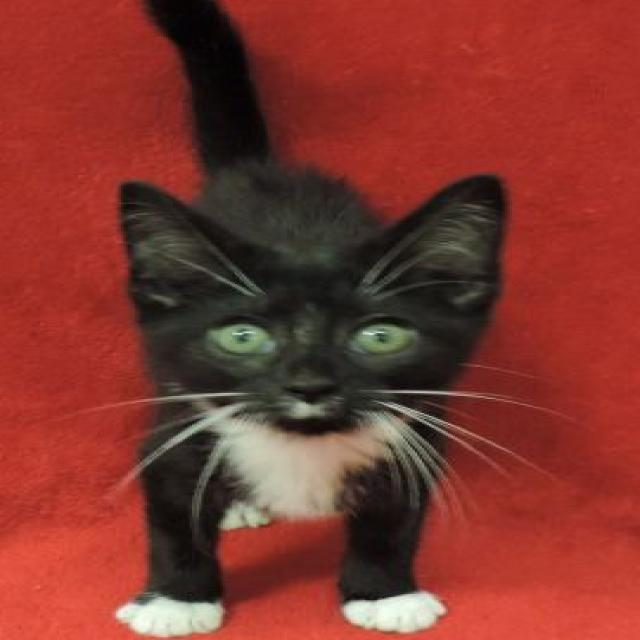Tuxedo: (109, 0, 512, 640)
